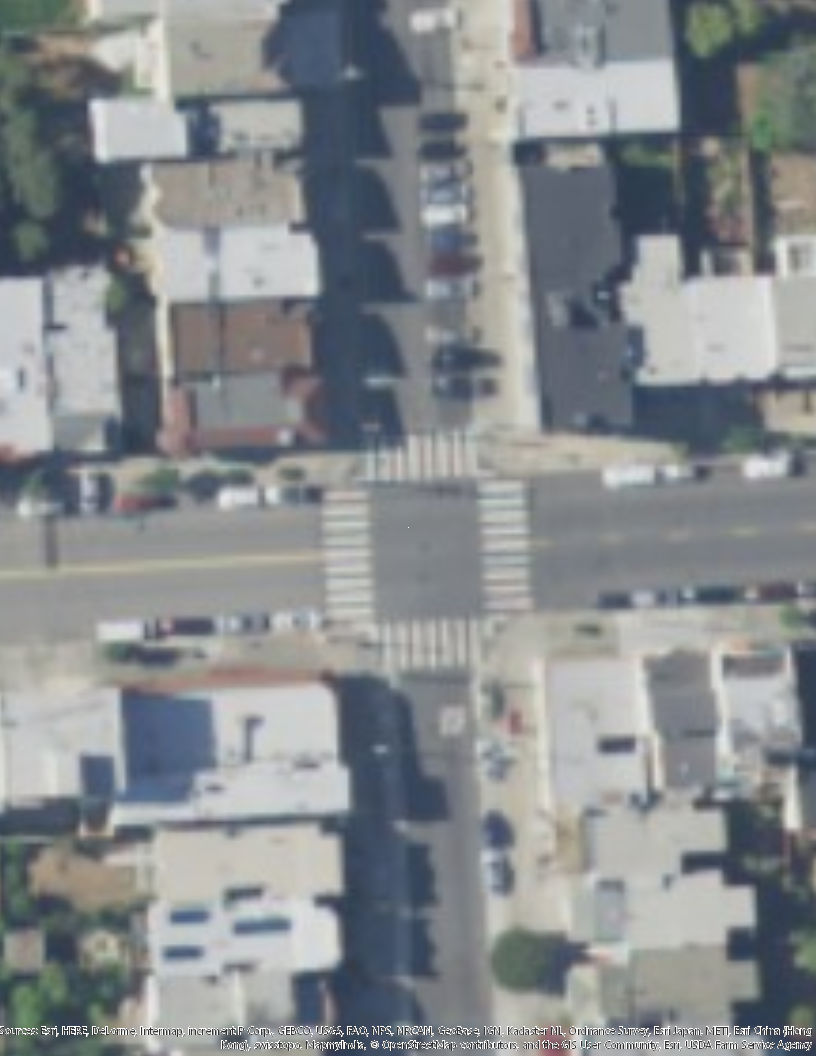zebracross: (321, 482, 376, 616), (478, 478, 530, 607), (365, 428, 476, 474), (380, 616, 474, 665)
